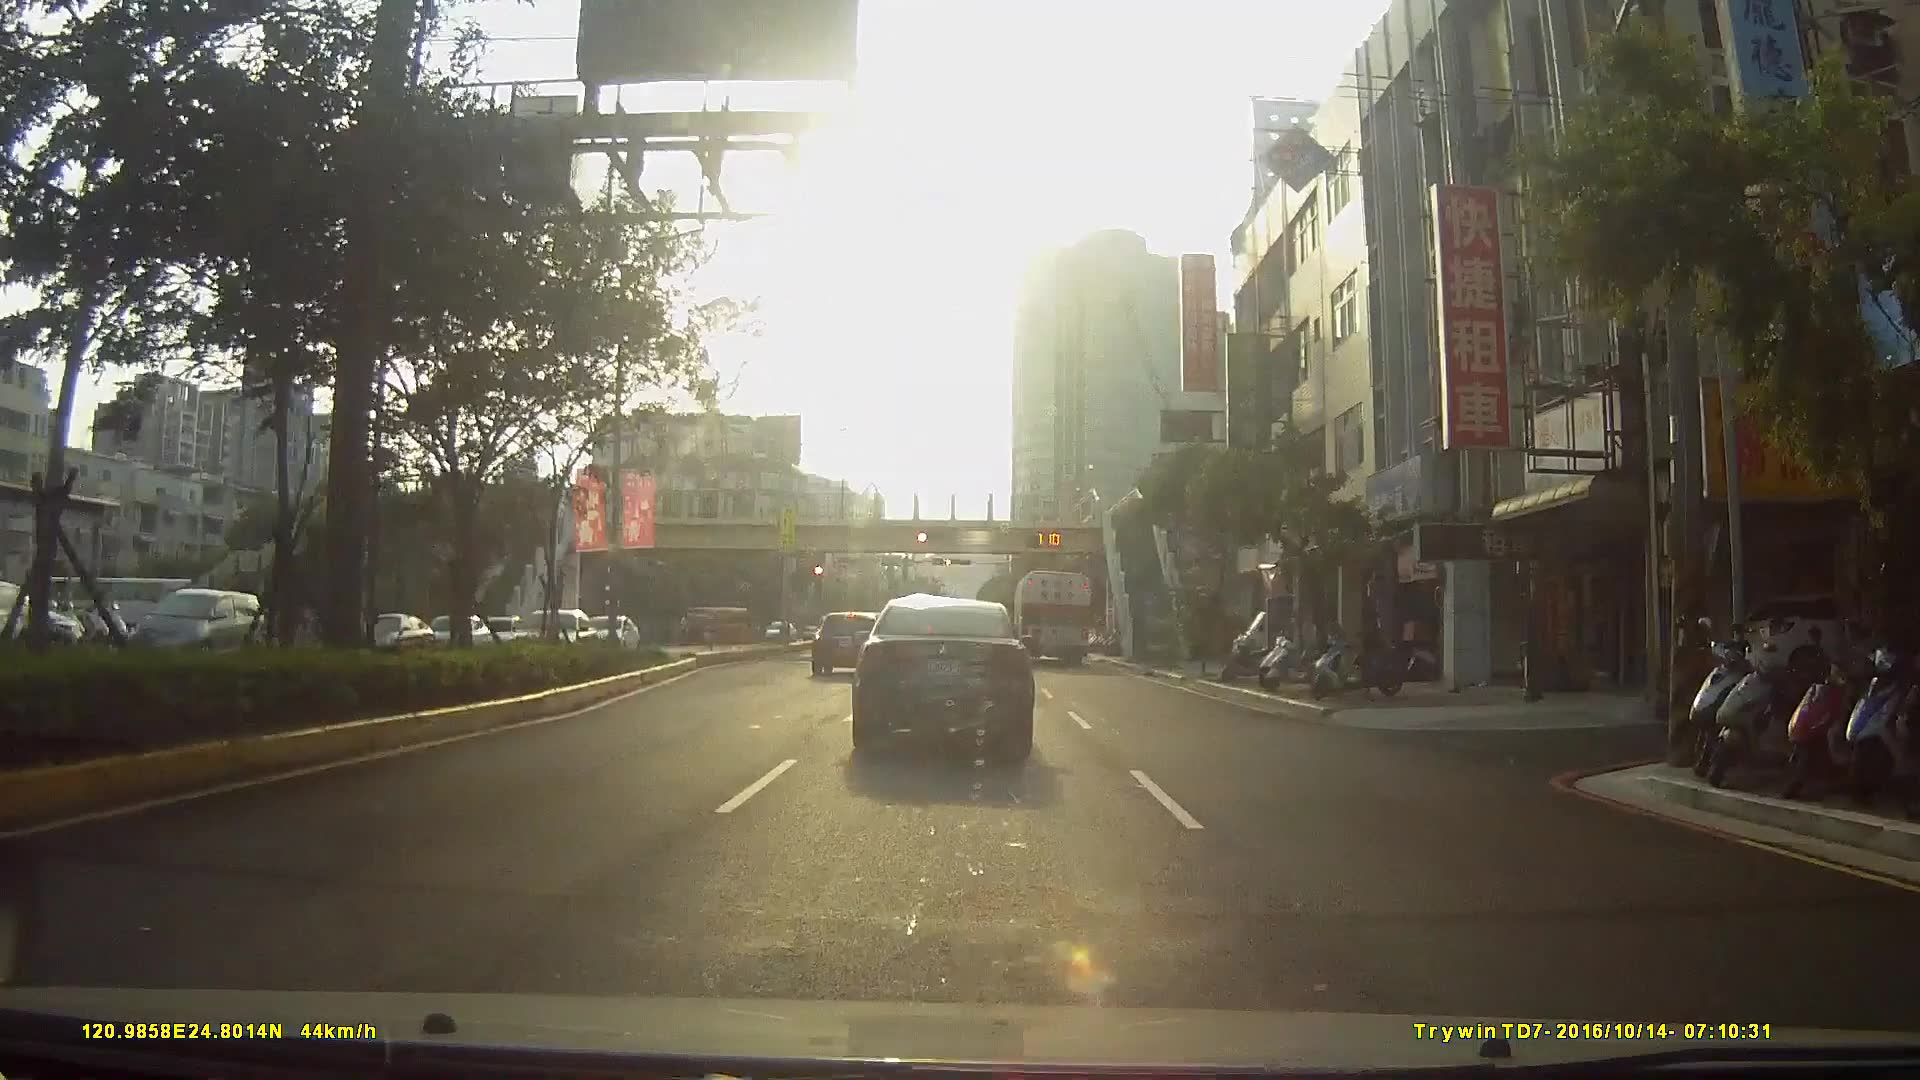vehicle: (849, 591, 1035, 750), (123, 585, 258, 662), (1009, 560, 1095, 659), (808, 608, 880, 678), (760, 615, 796, 640)
